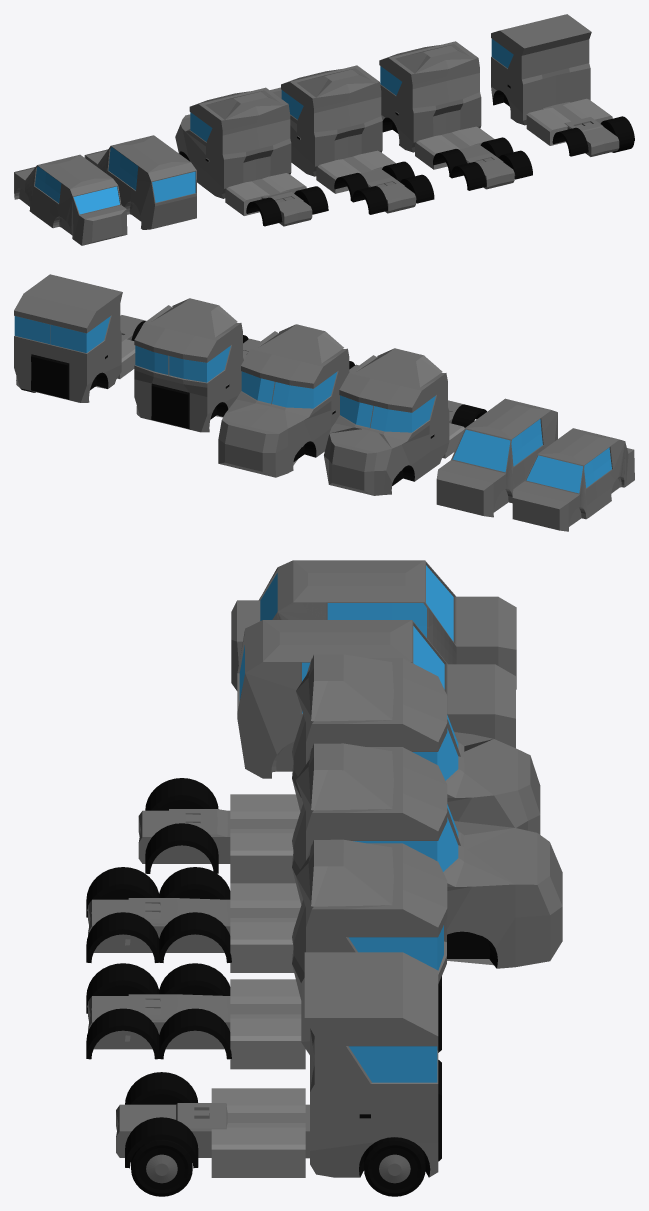
The model's file is cars.fbx.
3 views of the same model, one above another, from view 1: azimuth 30°, elevation 25°; view 2: azimuth 150°, elevation 25°; view 3: azimuth 270°, elevation 25° (orthographic). The views are drawn at different scales.
Parts seen in each view (by area): view 1: Cube.001, Cube.002, Cube.003, Cube, Cube.005, Cube.004; view 2: Cube.003, Cube.002, Cube, Cube.001, Cube.004, Cube.005; view 3: Cube.002, Cube, Cube.001, Cube.003, Cube.004, Cube.005, WheelForward, WheelBack.
Boxes of the visible parts, x1,y1,x2,y2 form: Cube.001: [379, 41, 532, 190]; Cube.002: [270, 65, 434, 214]; Cube.003: [175, 87, 328, 226]; Cube: [491, 14, 634, 156]; Cube.005: [14, 154, 127, 245]; Cube.004: [84, 135, 196, 229]; Cube.003: [324, 348, 486, 495]; Cube.002: [218, 324, 358, 477]; Cube: [14, 274, 146, 402]; Cube.001: [134, 298, 260, 432]; Cube.004: [436, 398, 557, 517]; Cube.005: [512, 428, 634, 531]; Cube.002: [86, 743, 562, 972]; Cube: [116, 952, 441, 1177]; Cube.001: [86, 839, 447, 1069]; Cube.003: [138, 654, 540, 883]; Cube.004: [237, 620, 515, 778]; Cube.005: [231, 560, 516, 690]; WheelForward: [364, 1137, 425, 1196]; WheelBack: [131, 1139, 192, 1196].
Bounding box in the file's own units: 1570 × 287 × 611.
